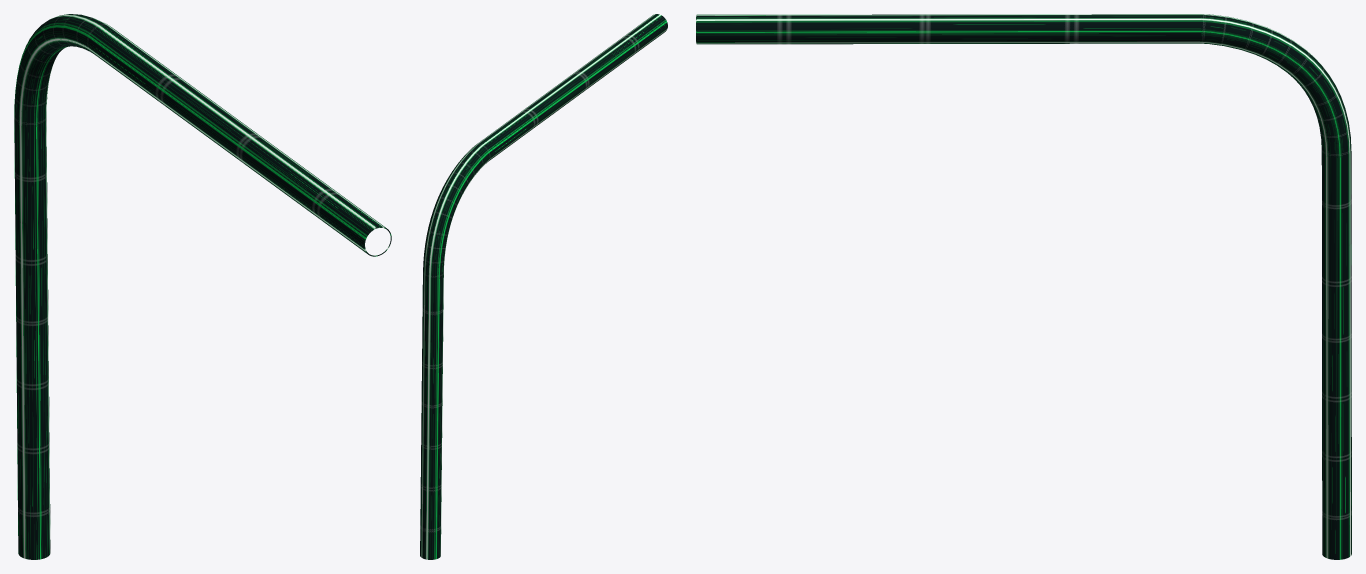
3 views of the same model, side by side, from view 1: azimuth 30°, elevation 25°; view 2: azimuth 150°, elevation 25°; view 3: azimuth 270°, elevation 25° (orthographic). The views are drawn at different scales.
Visible parts, largest first — view 1: Sweep; view 2: Sweep; view 3: Sweep.
Boxes of the visible parts, x1,y1,x2,y2 form: Sweep: (14, 14, 391, 559); Sweep: (420, 14, 667, 559); Sweep: (696, 14, 1351, 559).
Bounding box in the file's own units: 52.49 × 877 × 971.
1 material, 1 textured.
